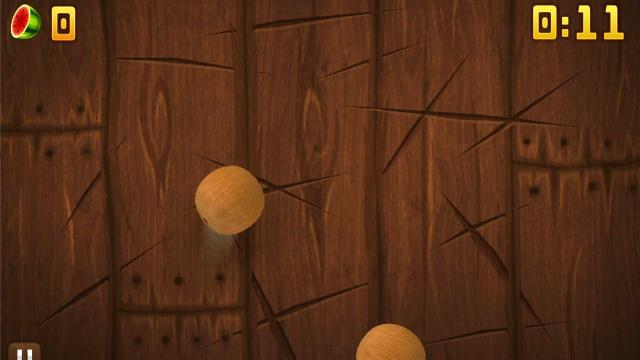fruit: (194, 162, 268, 234), (349, 318, 425, 360)
